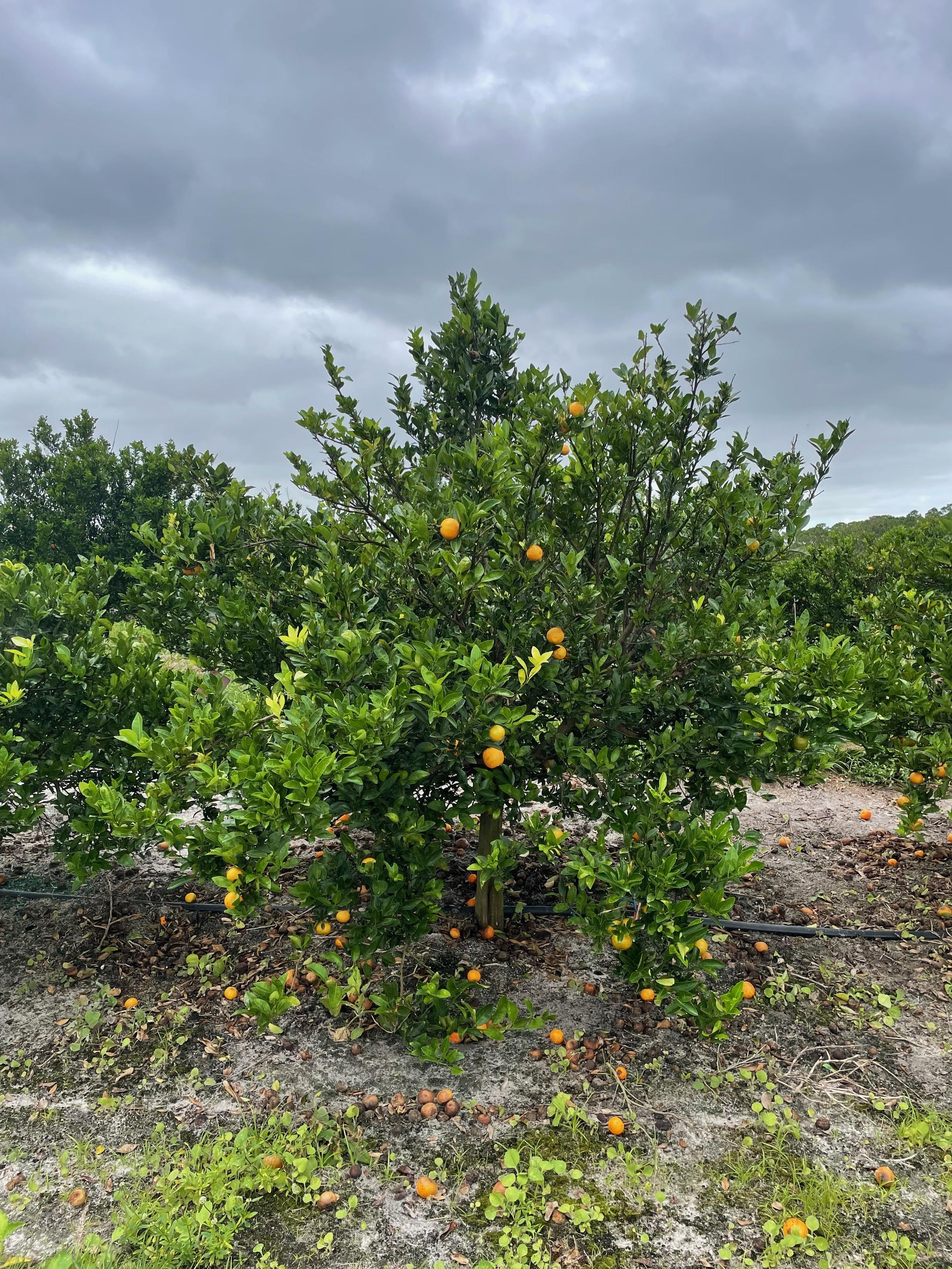fruit_on_ground: (609, 927, 635, 952), (480, 744, 506, 769), (437, 516, 463, 540), (442, 736, 467, 759), (544, 624, 567, 646), (524, 542, 546, 564), (180, 555, 202, 577), (224, 865, 247, 886), (223, 890, 244, 911), (690, 935, 710, 956), (567, 400, 588, 420), (487, 723, 508, 743), (545, 825, 565, 845), (549, 643, 569, 662), (790, 733, 810, 752), (458, 326, 477, 345), (314, 919, 333, 937), (554, 417, 572, 435), (333, 908, 352, 925), (745, 513, 762, 530), (360, 853, 377, 869), (744, 536, 761, 552), (932, 762, 949, 778), (465, 348, 481, 364), (895, 794, 911, 809), (908, 770, 924, 785), (909, 816, 924, 831), (901, 734, 917, 748), (557, 443, 571, 457), (867, 565, 874, 572), (824, 622, 831, 628)
fruit_on_tree: (780, 1215, 810, 1242), (873, 1163, 898, 1187), (415, 1175, 439, 1199), (67, 1186, 89, 1208), (4, 1172, 26, 1191), (317, 1189, 339, 1208), (280, 969, 300, 989), (739, 979, 758, 1000), (607, 1115, 626, 1135), (418, 1099, 438, 1117), (637, 984, 656, 1002), (220, 984, 240, 1001), (814, 1113, 832, 1131), (441, 1099, 460, 1116), (416, 1086, 434, 1103), (478, 924, 497, 940), (548, 1027, 565, 1044), (436, 1088, 454, 1104), (465, 966, 483, 982), (935, 904, 952, 920), (581, 979, 598, 995), (473, 1019, 491, 1034), (362, 1091, 380, 1106), (613, 1064, 629, 1080), (121, 995, 139, 1009), (355, 882, 371, 897), (304, 971, 320, 986), (334, 934, 349, 949), (390, 1092, 406, 1106), (753, 939, 769, 953), (454, 836, 469, 850), (446, 1030, 461, 1044), (183, 889, 198, 903), (336, 810, 352, 823), (629, 829, 643, 843), (348, 1165, 362, 1179), (466, 870, 480, 884), (448, 926, 462, 940), (858, 807, 873, 820), (777, 834, 792, 847), (799, 905, 815, 917), (770, 901, 784, 914), (565, 1037, 579, 1050), (156, 839, 171, 851), (465, 894, 478, 907), (828, 915, 842, 927), (0, 869, 9, 886), (443, 821, 455, 833), (943, 829, 952, 845), (157, 913, 169, 925), (887, 856, 899, 868), (324, 823, 336, 834), (314, 848, 325, 858), (914, 848, 924, 858)
